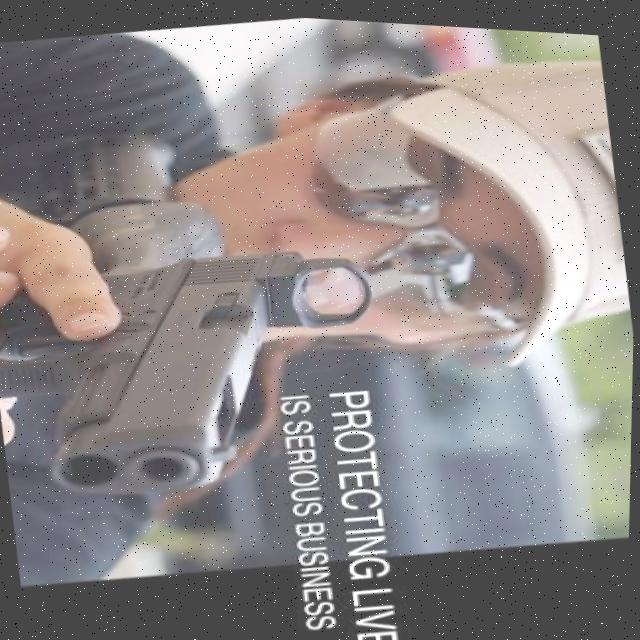pistol: (0, 218, 398, 519)
